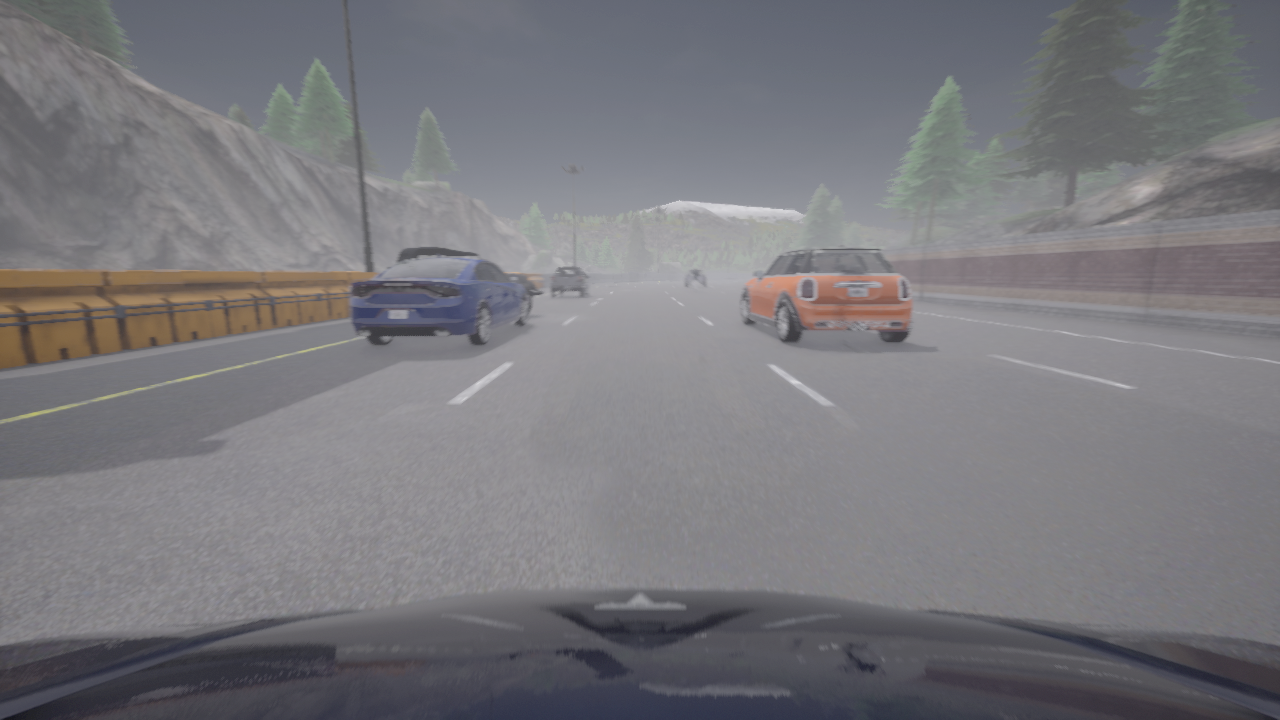cyclist: (0, 588, 1279, 719), (740, 241, 912, 342), (349, 254, 527, 345), (386, 246, 541, 314), (550, 267, 589, 297), (684, 269, 706, 287), (688, 273, 697, 291)
